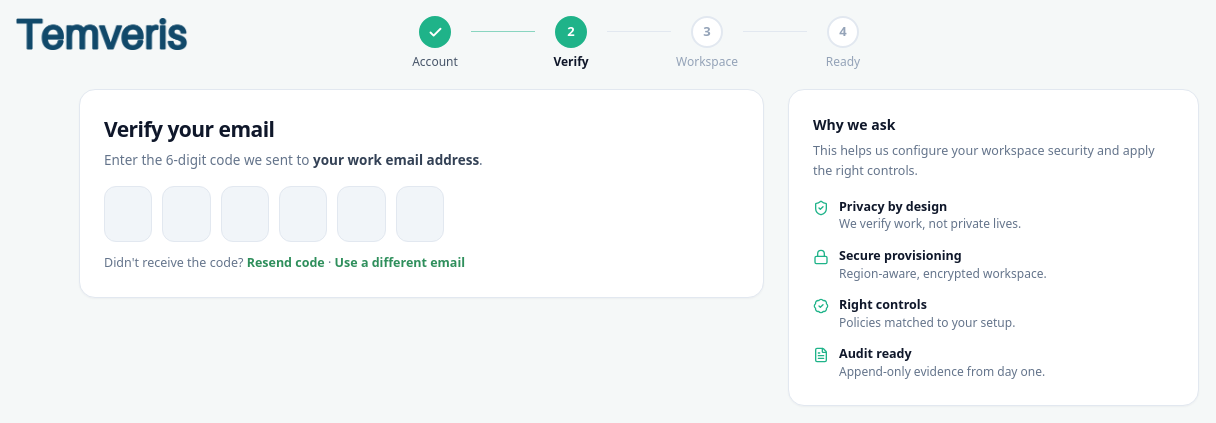
Scenario: Step 2 — verification › reports an expired code with a way forward
This screenshot has width=1216, height=423.
Type "1" into the field named "Digit 1 of 6" at [128, 214], box left=104, top=186, right=152, bottom=242
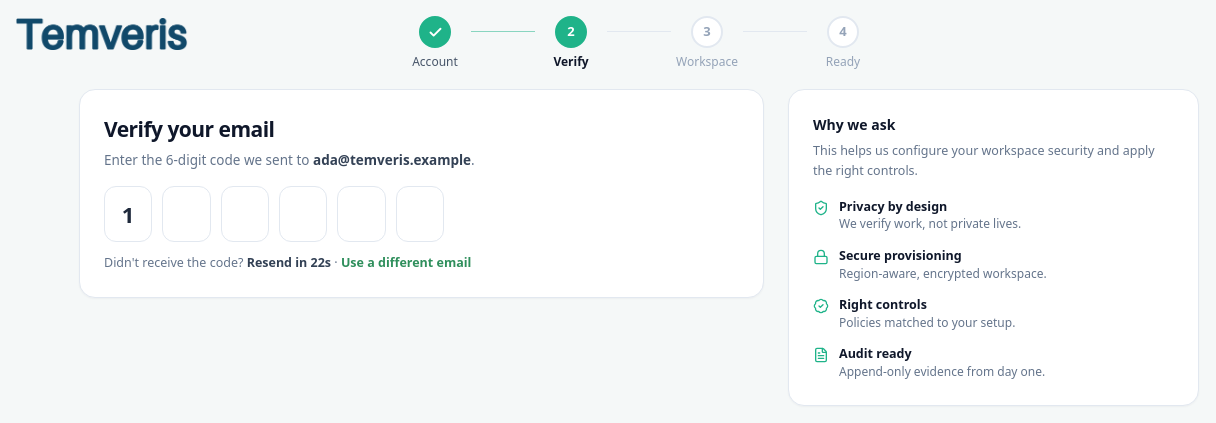
Type "1" into the field named "Digit 2 of 6" at [186, 214], box left=162, top=186, right=211, bottom=242
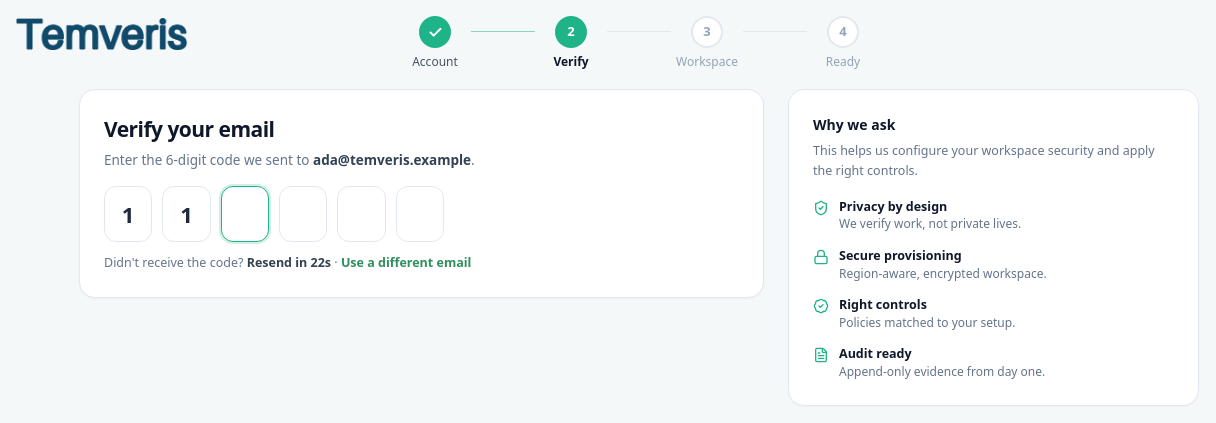
Type "1" into the field named "Digit 3 of 6" at [245, 214], box left=221, top=186, right=269, bottom=242
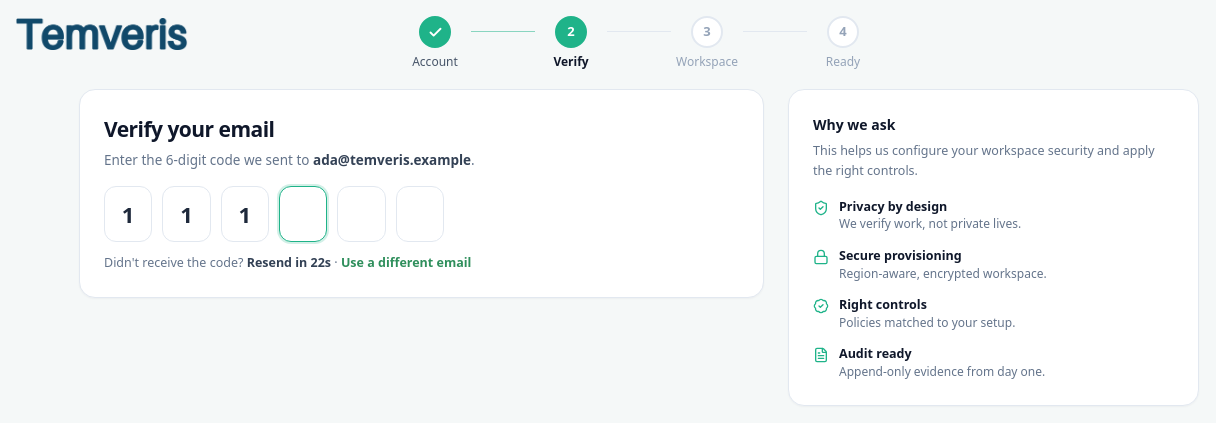
Type "1" into the field named "Digit 4 of 6" at [303, 214], box left=279, top=186, right=327, bottom=242
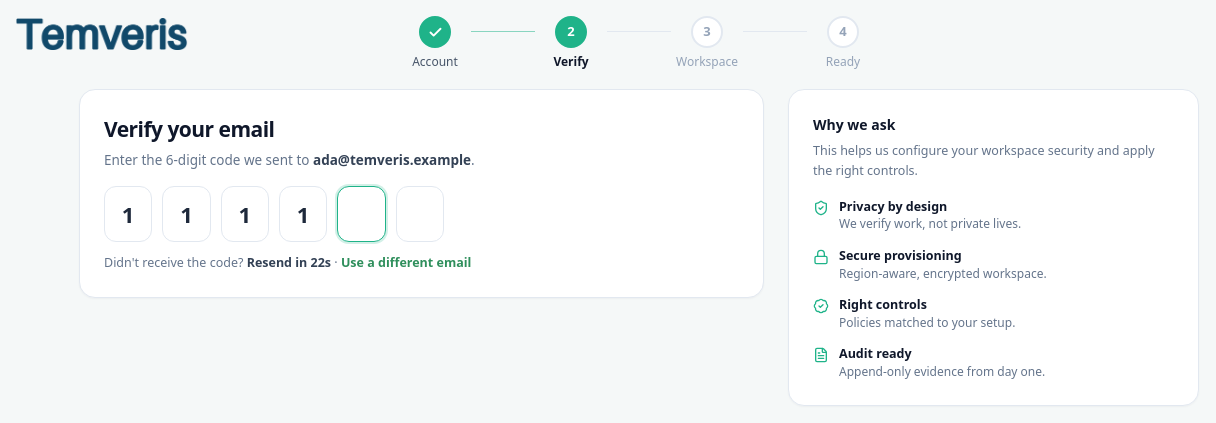
Type "1" into the field named "Digit 5 of 6" at [361, 214], box left=337, top=186, right=386, bottom=242
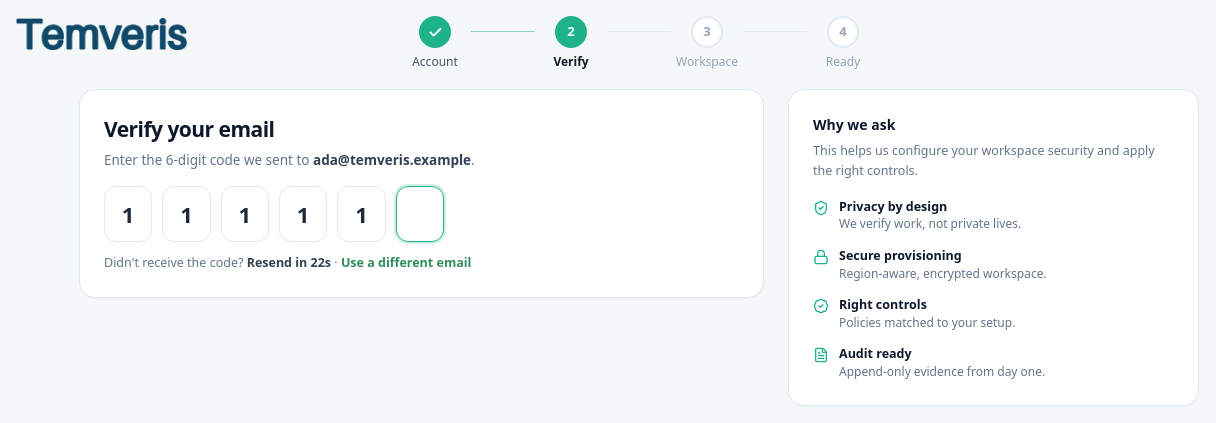
Type "1" into the field named "Digit 6 of 6" at [420, 214], box left=396, top=186, right=444, bottom=242
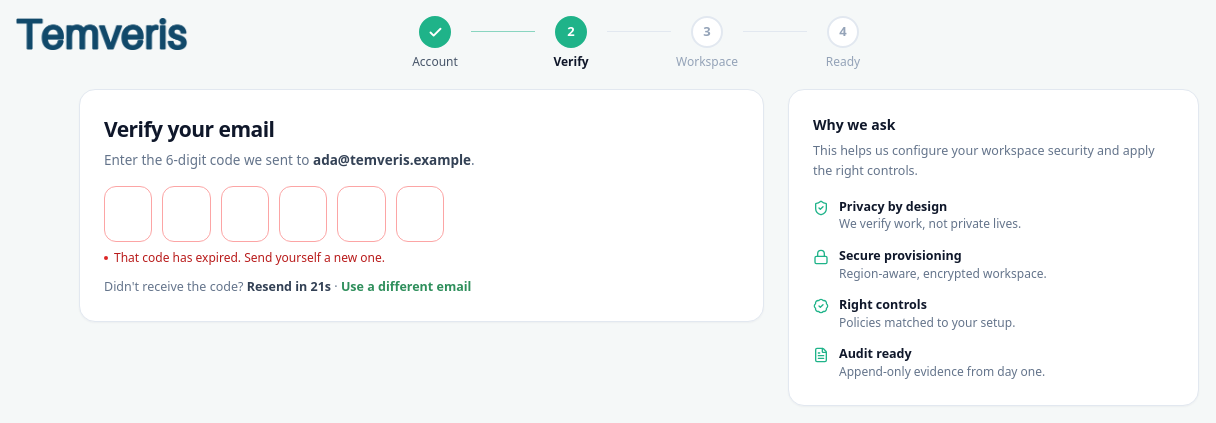
Expected: the text "That code has expired. Send yourself a new one." is shown, left=114, top=250, right=385, bottom=266
